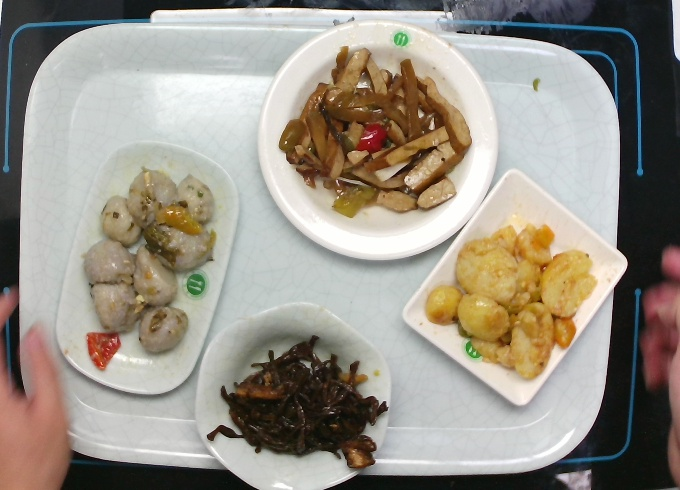WCQzf-Bai_Se_Si_Fang_Die: (405, 170, 633, 402)
WCQzf-Hua_Duo_Wan: (192, 296, 392, 490)
WCQzf-Kuan_Bian_Yuan_Die: (263, 13, 503, 263)
WCQzf-Tuo_Yuan_Pan: (50, 138, 240, 392)
